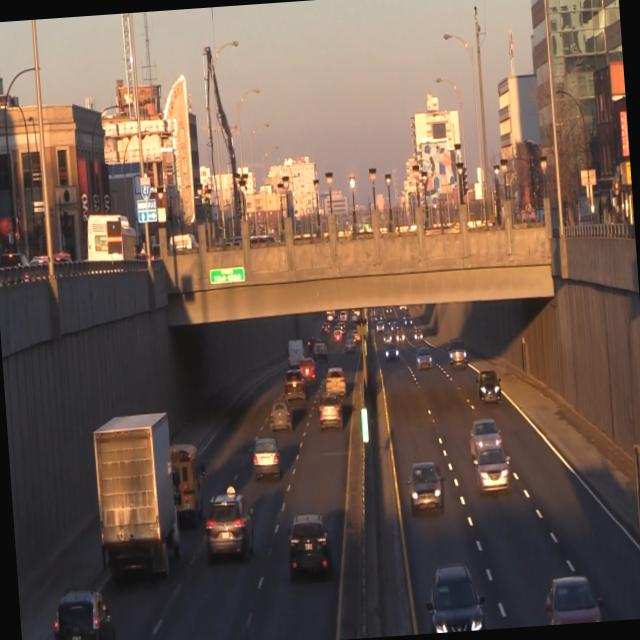Vehicle: (88, 410, 181, 586), (198, 486, 256, 568), (425, 562, 488, 632), (163, 441, 210, 532), (284, 509, 334, 584), (48, 591, 116, 640), (544, 573, 604, 625), (472, 444, 512, 500), (406, 459, 446, 514), (464, 414, 504, 456), (250, 437, 280, 481), (315, 392, 345, 433), (473, 366, 502, 406), (266, 398, 293, 436), (280, 366, 306, 404), (322, 367, 346, 401), (444, 339, 469, 371), (298, 356, 316, 391), (413, 344, 433, 372), (382, 342, 402, 362)
